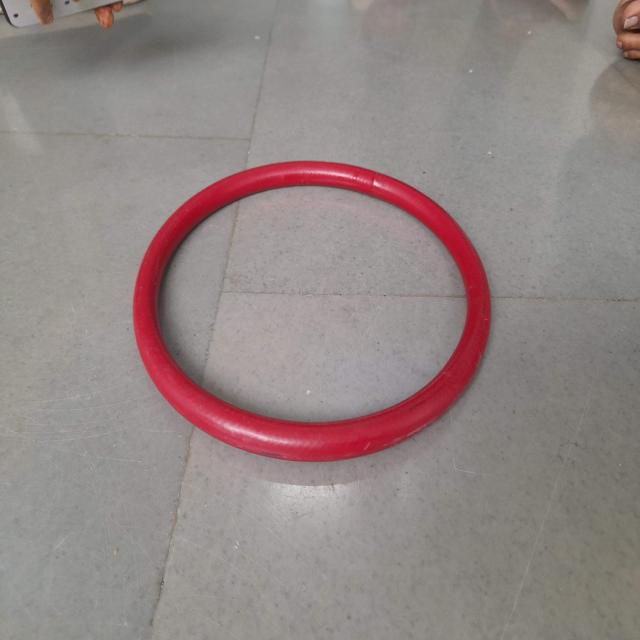daire: (135, 157, 494, 460)
